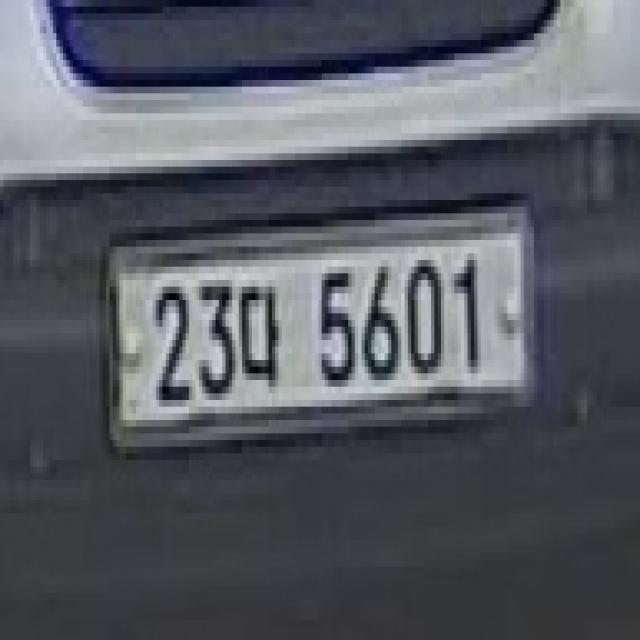0: (407, 245, 447, 382)
1: (450, 242, 494, 385)
2: (147, 275, 194, 412)
3: (196, 263, 237, 402)
5: (315, 258, 358, 390)
6: (361, 255, 404, 391)
da: (238, 275, 287, 397)
license_plate: (118, 222, 530, 424)
